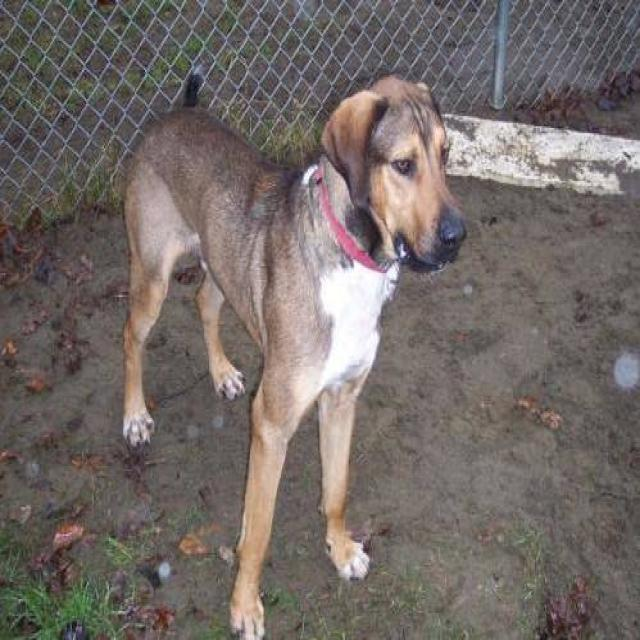dogs: (87, 46, 466, 640)
